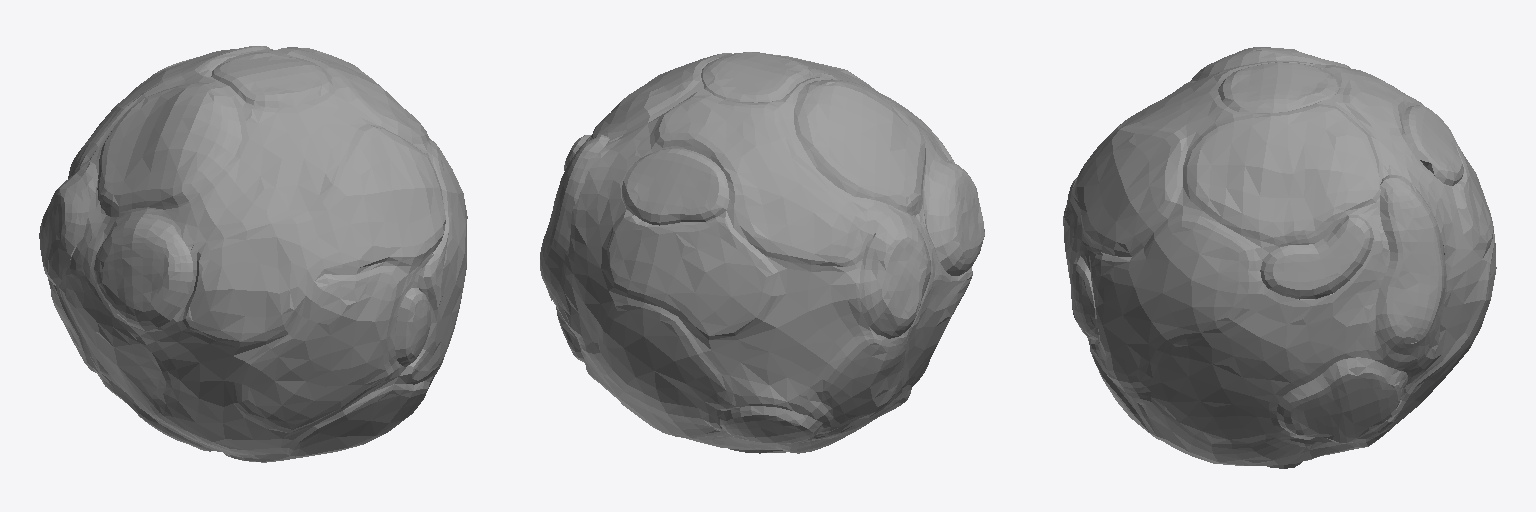
The model's file is meteorite.obj.
3 views of the same model, side by side, from view 1: azimuth 30°, elevation 25°; view 2: azimuth 150°, elevation 25°; view 3: azimuth 270°, elevation 25° (orthographic).
Parts seen in each view (by area): view 1: YoshiBoxBreakPlanet_meshId0_name.001, YoshiBoxBreakPlanet.001_meshId1_name.001; view 2: YoshiBoxBreakPlanet_meshId0_name.001, YoshiBoxBreakPlanet.001_meshId1_name.001; view 3: YoshiBoxBreakPlanet_meshId0_name.001, YoshiBoxBreakPlanet.001_meshId1_name.001.
Boxes of the visible parts, box(x1,y1,x2,y2) form: YoshiBoxBreakPlanet_meshId0_name.001: box(48, 46, 467, 462); YoshiBoxBreakPlanet.001_meshId1_name.001: box(39, 51, 430, 366); YoshiBoxBreakPlanet_meshId0_name.001: box(553, 53, 972, 453); YoshiBoxBreakPlanet.001_meshId1_name.001: box(540, 52, 984, 453); YoshiBoxBreakPlanet_meshId0_name.001: box(1063, 60, 1496, 465); YoshiBoxBreakPlanet.001_meshId1_name.001: box(1071, 47, 1463, 468).
Bounding box in the file's own units: 0.9323 × 0.9104 × 0.9722.